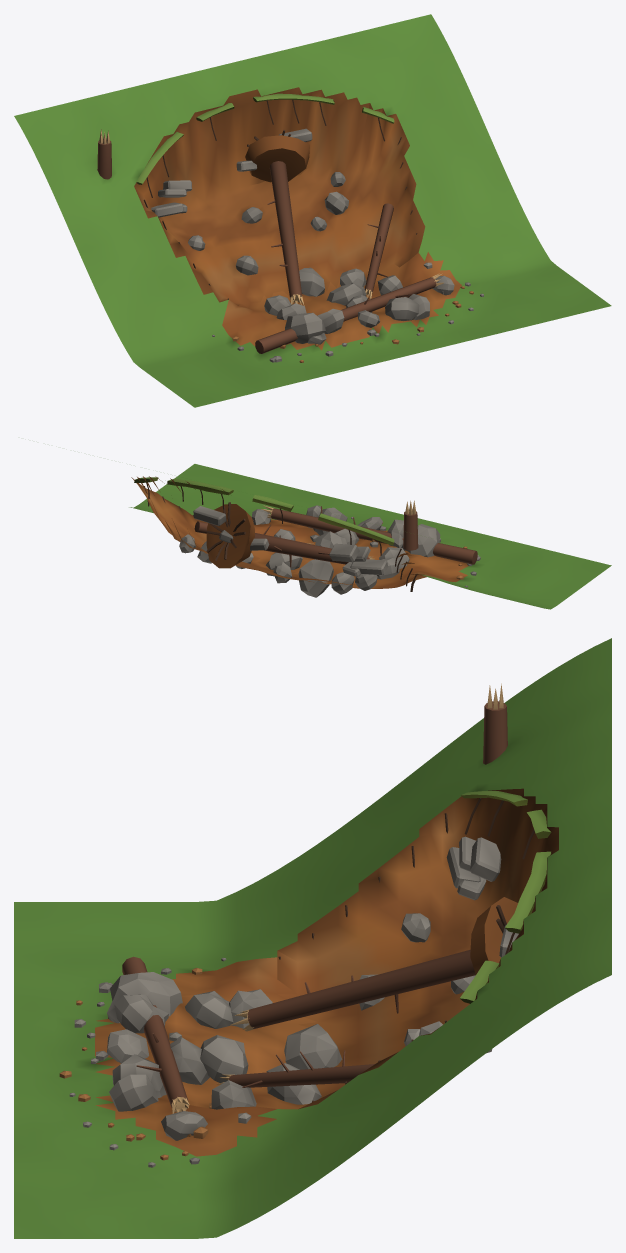
File: landslide.glb
The picture shows the model from 3 angles, top to bottom: view 1: azimuth 30°, elevation 25°; view 2: azimuth 150°, elevation 25°; view 3: azimuth 270°, elevation 25°; orthographic projection. The views are drawn at different scales.
Visible parts, largest first — view 1: landslide Earth, landslide Rock, landslide Bark, landslide Turf lip; view 2: landslide Earth, landslide Rock, landslide Bark, landslide Turf lip, landslide Roots; view 3: landslide Earth, landslide Rock, landslide Bark, landslide Turf lip, landslide Roots.
Part boxes in pixels (x1,y1,x2,y2): landslide Earth: (14, 14, 611, 407); landslide Rock: (151, 128, 483, 362); landslide Bark: (97, 140, 436, 353); landslide Turf lip: (136, 93, 394, 184); landslide Earth: (129, 464, 611, 609); landslide Rock: (179, 505, 480, 597); landslide Bark: (194, 506, 477, 567); landslide Turf lip: (134, 477, 394, 545); landslide Roots: (144, 482, 417, 591); landslide Earth: (14, 638, 611, 1238); landslide Rock: (69, 836, 518, 1167); landslide Bark: (122, 701, 507, 1111); landslide Turf lip: (459, 791, 551, 1003); landslide Roots: (278, 798, 534, 1102).
Size of the model in its own units: 24 by 9.45 by 18.
